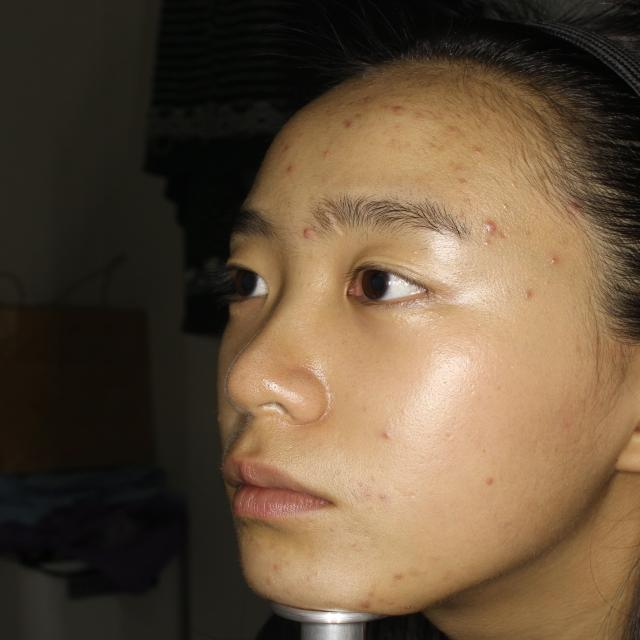acne: (479, 214, 511, 251), (372, 427, 402, 454), (352, 587, 380, 613), (443, 120, 470, 146), (279, 154, 306, 177), (298, 221, 317, 245), (336, 115, 360, 132), (388, 99, 407, 120), (387, 565, 406, 585), (355, 93, 375, 108)
